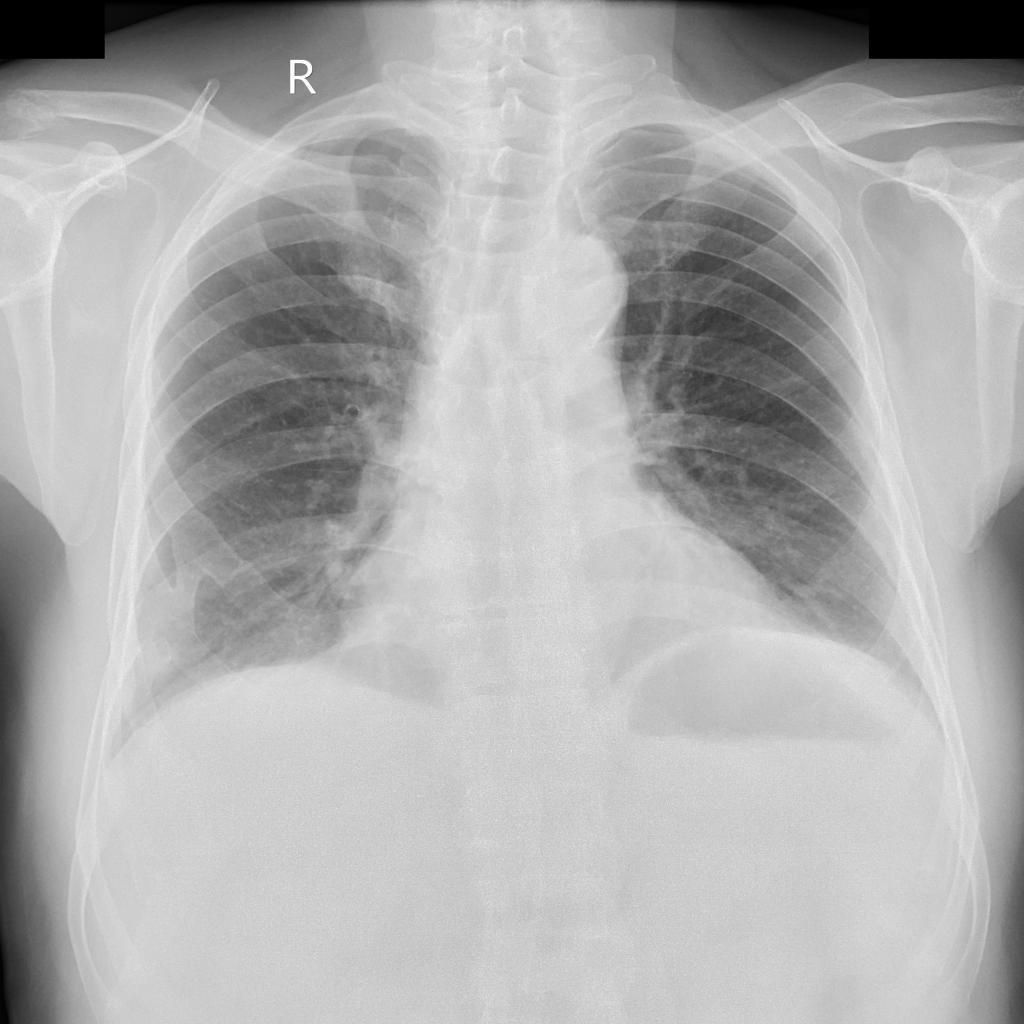Nodule: (142, 639, 178, 669)
